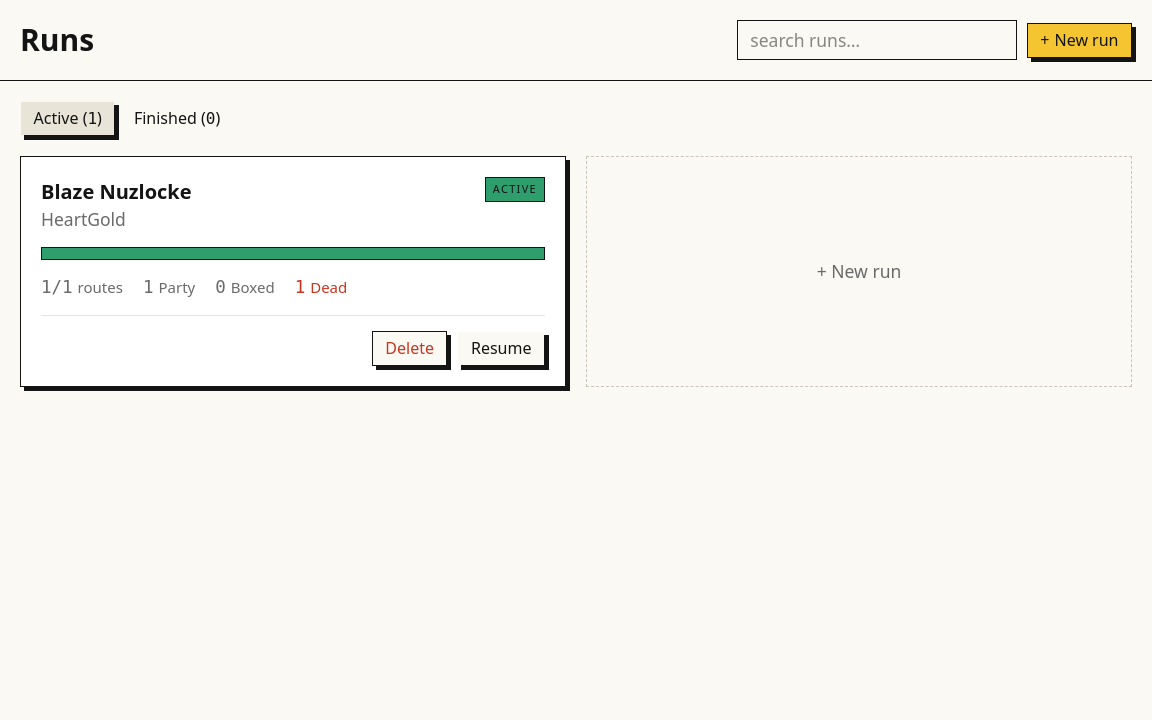
Scenario: RunListScreen › requires an explicit confirmation naming the run and the numbers lost before deleting
Expected: the heading "Blaze Nuzlocke" is shown, x1=41 y1=177 x2=192 y2=207
Note: Clicking "Delete" alone only opens the confirmation. It must not delete anything by itself.
Step 1. Click the button "Delete" → (410, 348), box x1=372 y1=330 x2=448 y2=366
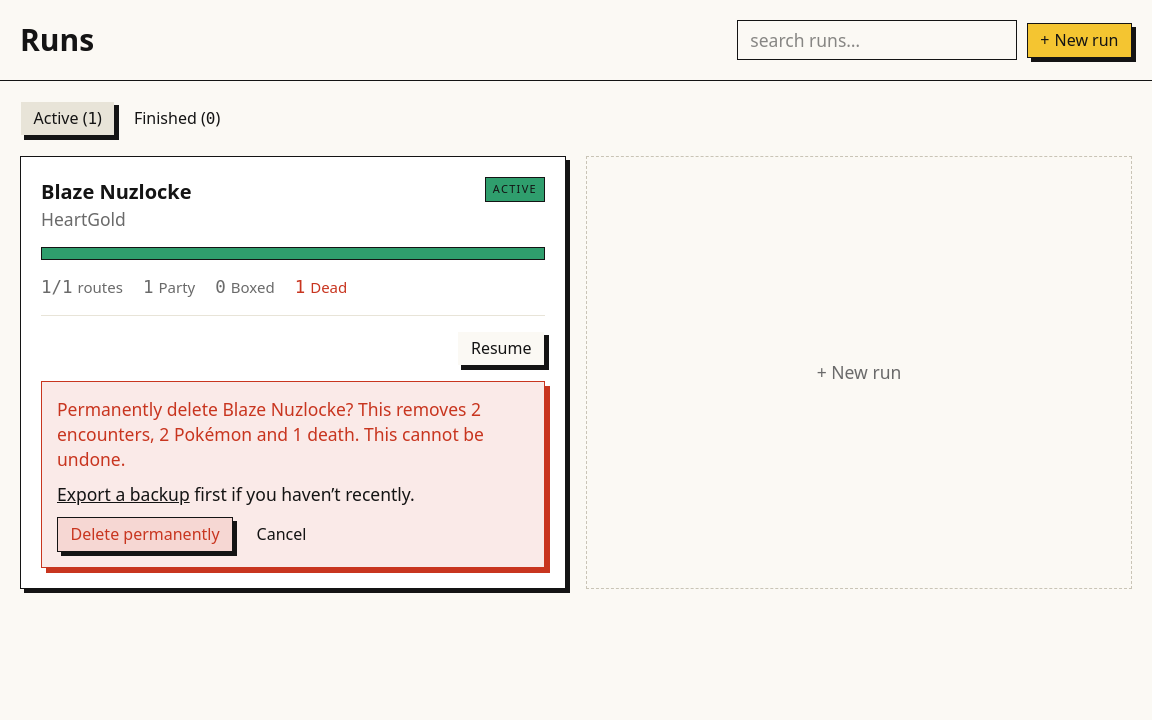
Now the text "Permanently delete Blaze Nuzlocke? This removes 2 encounters, 2 Pokémon and 1 death. This cannot be undone." is shown, box x1=57 y1=396 x2=529 y2=472
Step 2. Click the button "Cancel" → (282, 534), box x1=243 y1=516 x2=320 y2=552
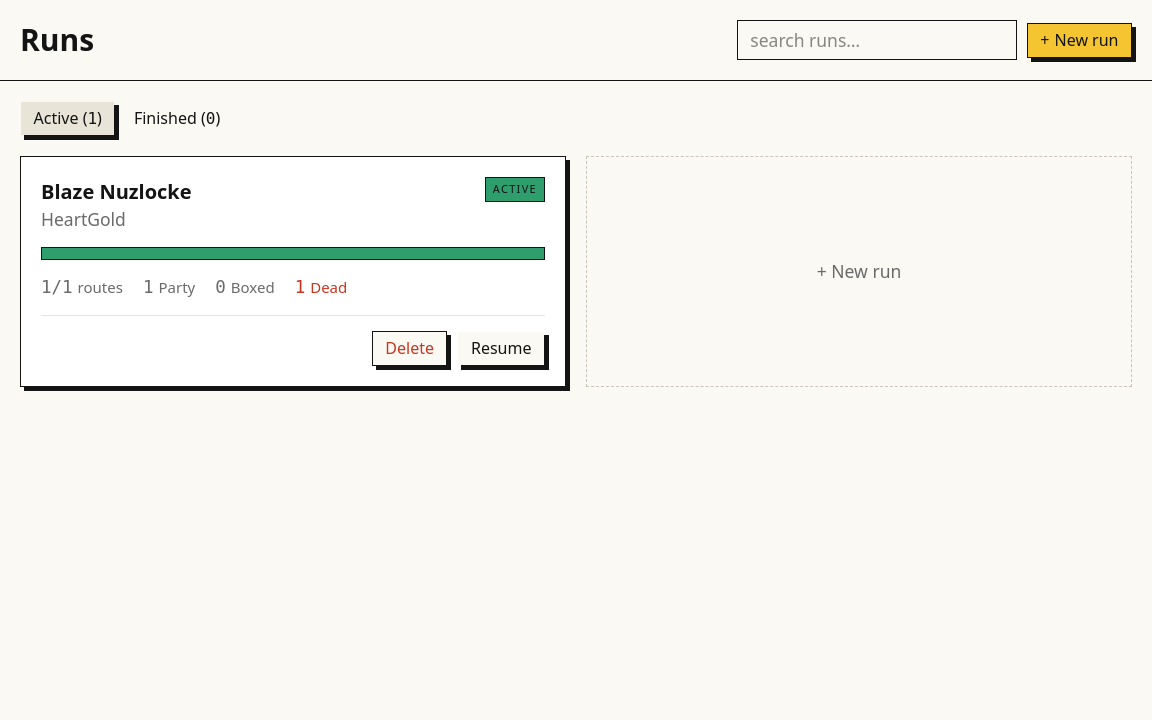
Expected: the heading "Blaze Nuzlocke" is shown, x1=41 y1=177 x2=192 y2=207
Now the text "Permanently delete" is gone
